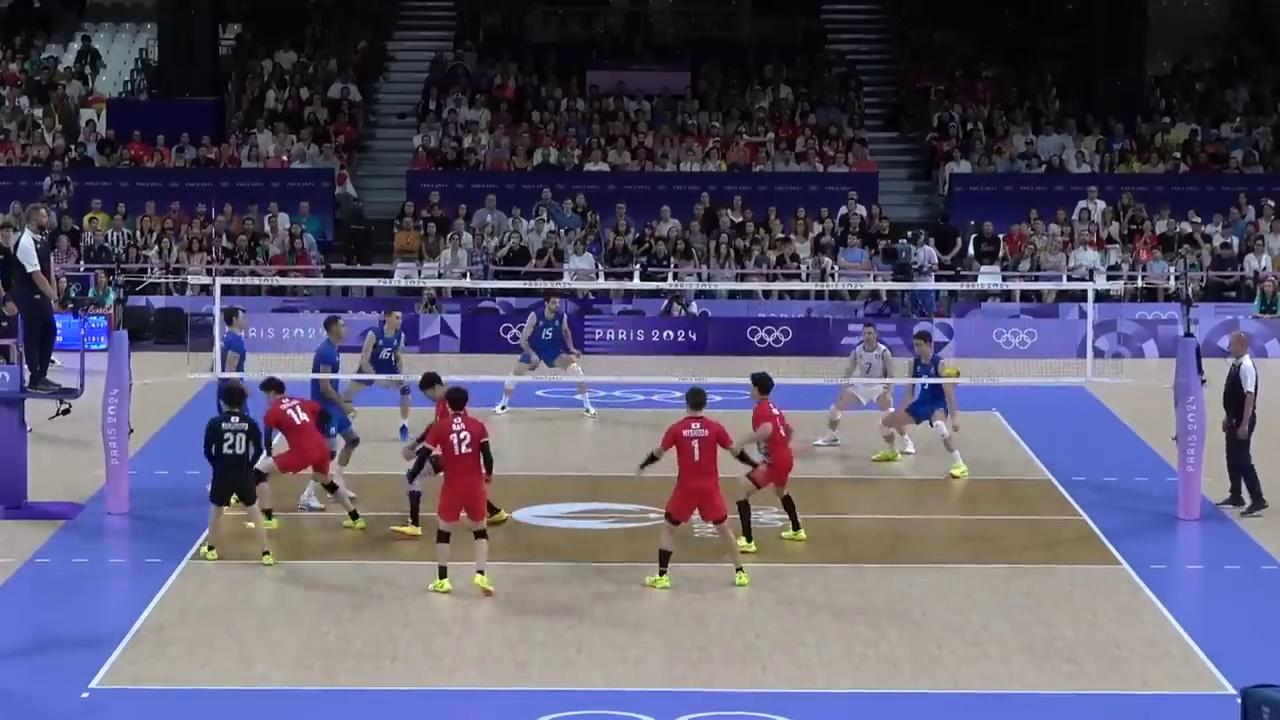ball: (942, 366, 960, 378)
